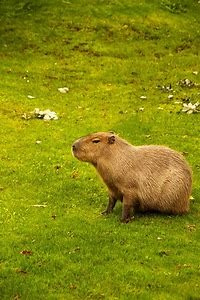capybara: (65, 124, 196, 218)
